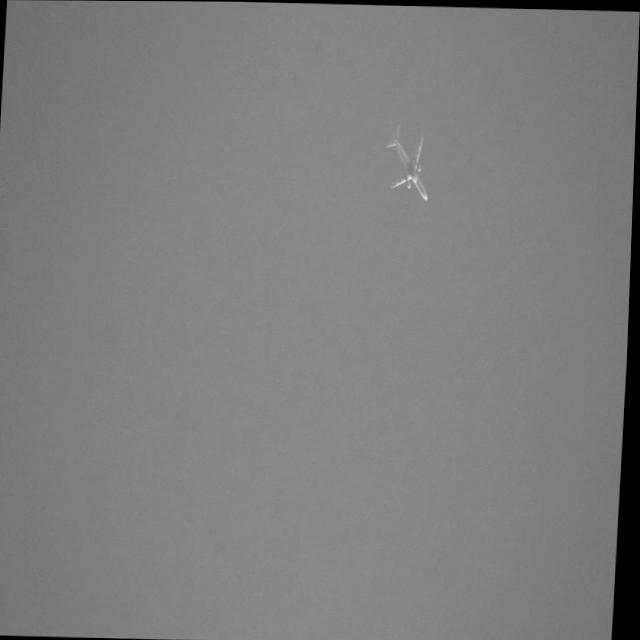aeroplane: (383, 121, 432, 203)
